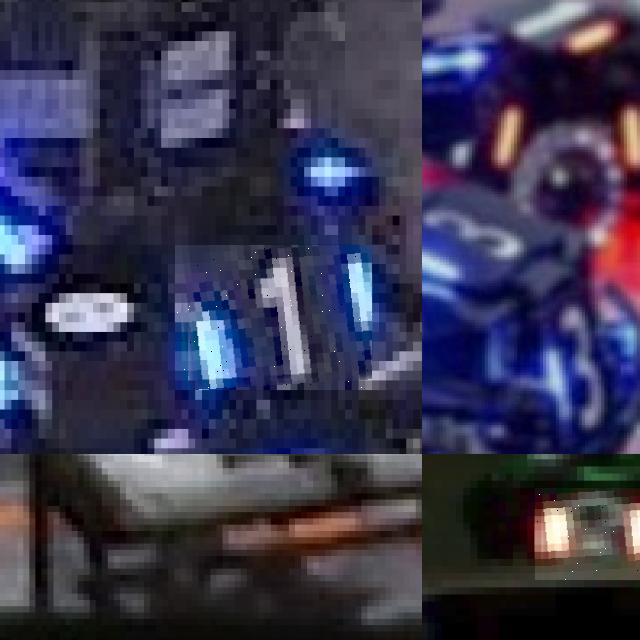B1: (175, 245, 372, 390)
B3: (533, 296, 614, 428), (422, 202, 542, 286)
Rs: (534, 487, 640, 580)
